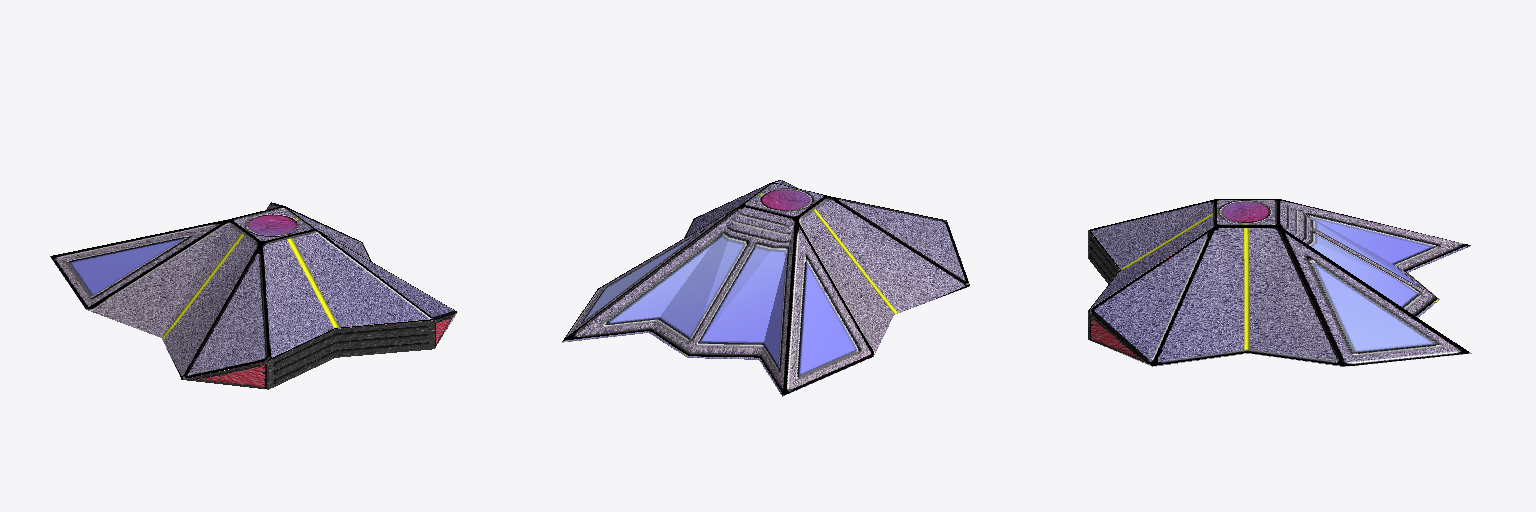
3 renders of one model, left to right at view 1: azimuth 30°, elevation 25°; view 2: azimuth 150°, elevation 25°; view 3: azimuth 270°, elevation 25°, orthographic.
Parts seen in each view (by area): view 1: shiptop, rear; view 2: shiptop; view 3: shiptop, rear.
Boxes of the visible parts, x1,y1,x2,y2 form: shiptop: [50, 202, 456, 379]; rear: [183, 314, 454, 389]; shiptop: [562, 180, 969, 395]; shiptop: [1089, 199, 1470, 366]; rear: [1088, 230, 1147, 363].
Bounding box in the file's own units: 4.06 × 1.22 × 4.88.
Materials: 3 (3 with a texture image).